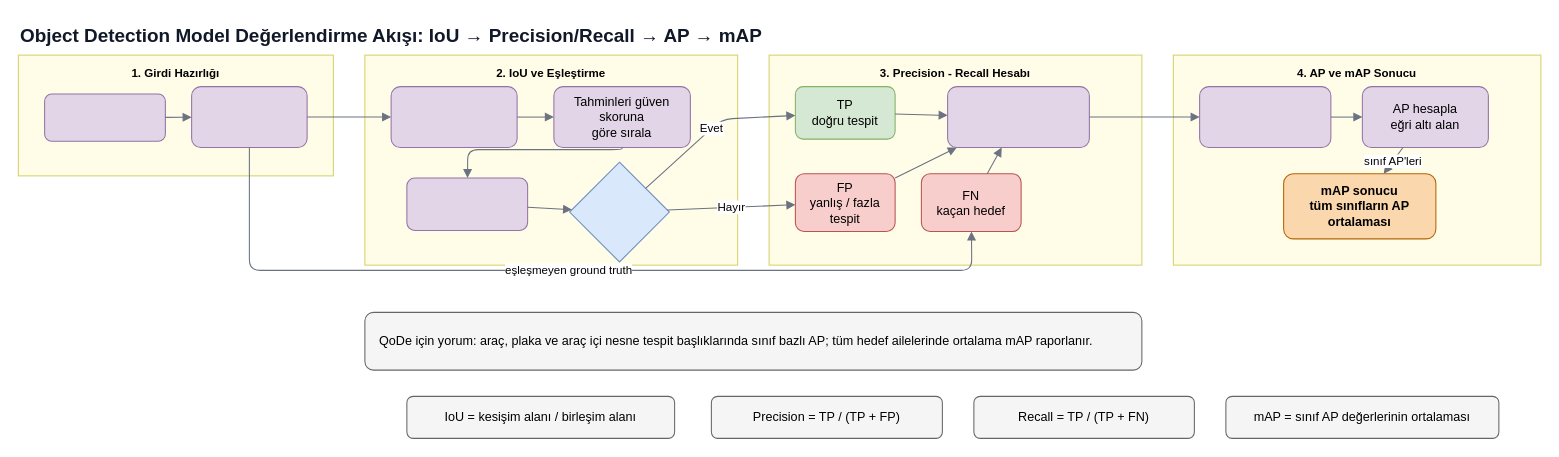
Some shapes in this 1559 by 457 pixel diagram are drawn without their labels. Here are the shapes that lost their labels. From the top down, the centre of each, then its label:
At (104,117): "Test görselleri / video kareleri".
At (249,117): "Ground truth kutuları ve sınıf etiketleri".
At (453,117): "Model tahminleri: kutu + sınıf + güven".
At (1018,117): "Precision ve recall değerlerini hesapla".
At (1265,117): "Sınıf bazında Precision-Recall eğrisi".
At (467,203): "Her tahmin için IoU hesapla".
At (619,211): "IoU ≥ eşik mi? örn. 0.50".
